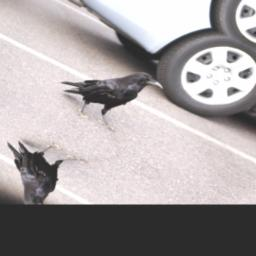Crow: (45, 43, 168, 136)
